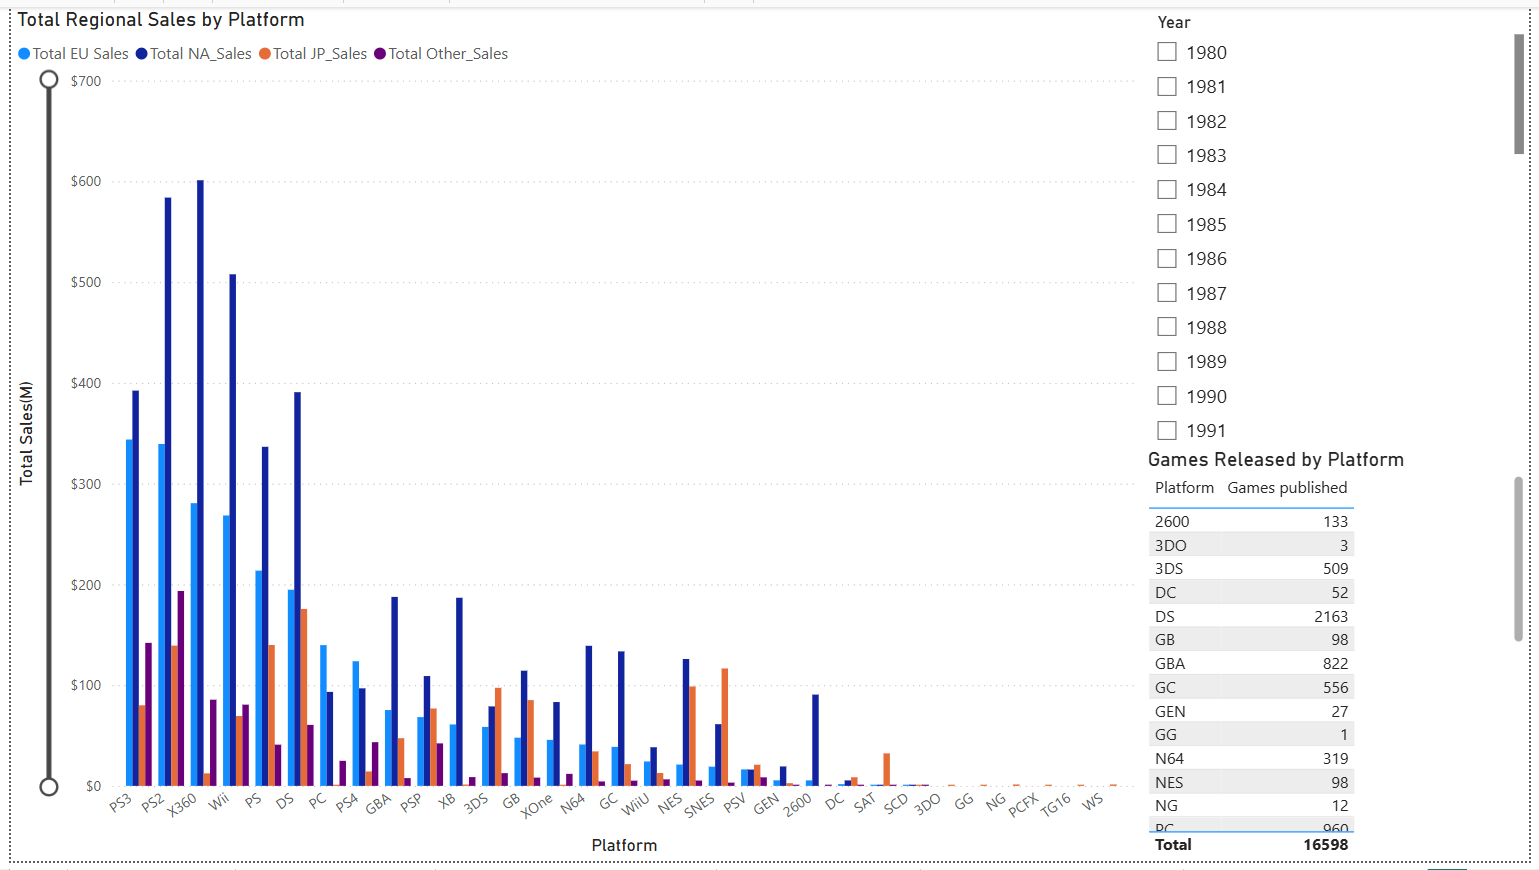

This screenshot's page, from the dashboard's own definition file:
{"tool":"powerbi","page":{"name":"Platforms and their performance around the world","canvas":[1280,720],"ordinal":3},"visuals":[{"type":"clusteredColumnChart","title":"Total Regional Sales by Platform","fields":{"Y":["Sum(vgsales.EU_Sales)","Sum(vgsales.NA_Sales)","Sum(vgsales.JP_Sales)","Sum(vgsales.Other_Sales)"],"Category":["vgsales.Platform"]},"box":[0,0,953.5,720],"z":0},{"type":"slicer","fields":{"Values":["vgsales.Year"]},"box":[953.2,0,326.8,370.6],"z":1000},{"type":"tableEx","title":"Games Released by Platform","fields":{"Values":["vgsales.Platform","vgsales.Name"]},"box":[953.2,370.6,326.8,349.2],"z":2000}]}

Visuals, with their boxes in screenshot pixels (x1, y1, x2, y2), scaled from the page's 1280x720 canvas onto the 1539x870 screenshot:
"Total Regional Sales by Platform" clusteredColumnChart: rect(0, 0, 1146, 869)
slicer - vgsales.Year: rect(1146, 0, 1538, 448)
"Games Released by Platform" tableEx: rect(1146, 448, 1538, 869)
